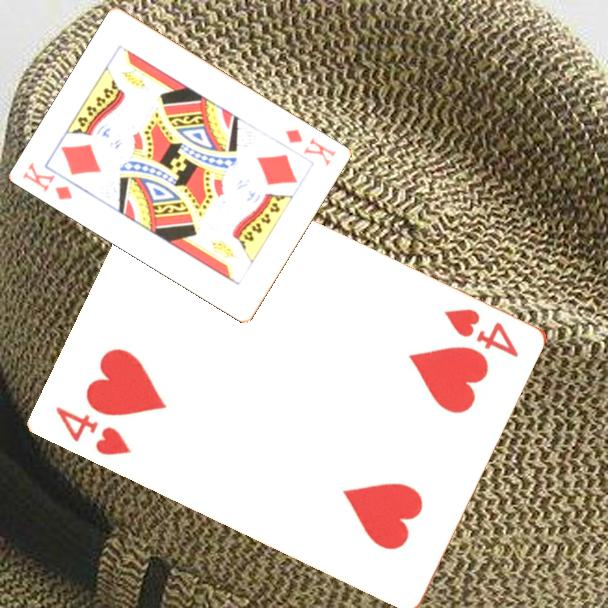d13: (19, 158, 76, 203), (282, 125, 340, 169)
h04: (53, 402, 136, 458), (441, 304, 522, 360)
